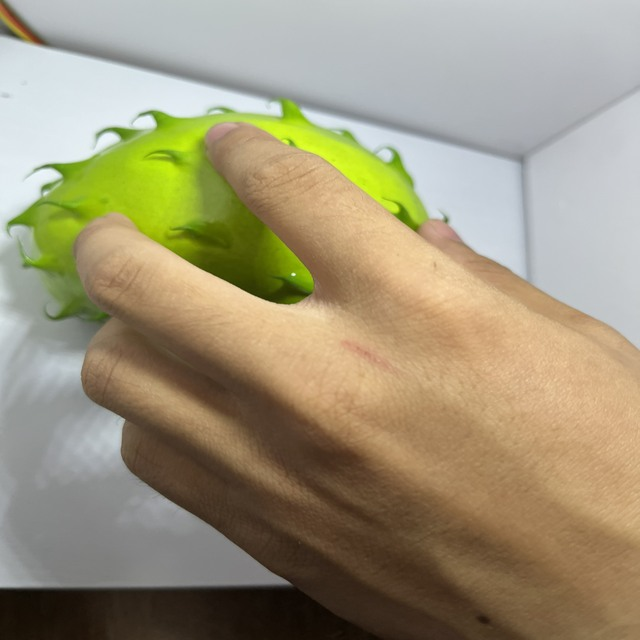Man cau: (0, 93, 461, 339)
